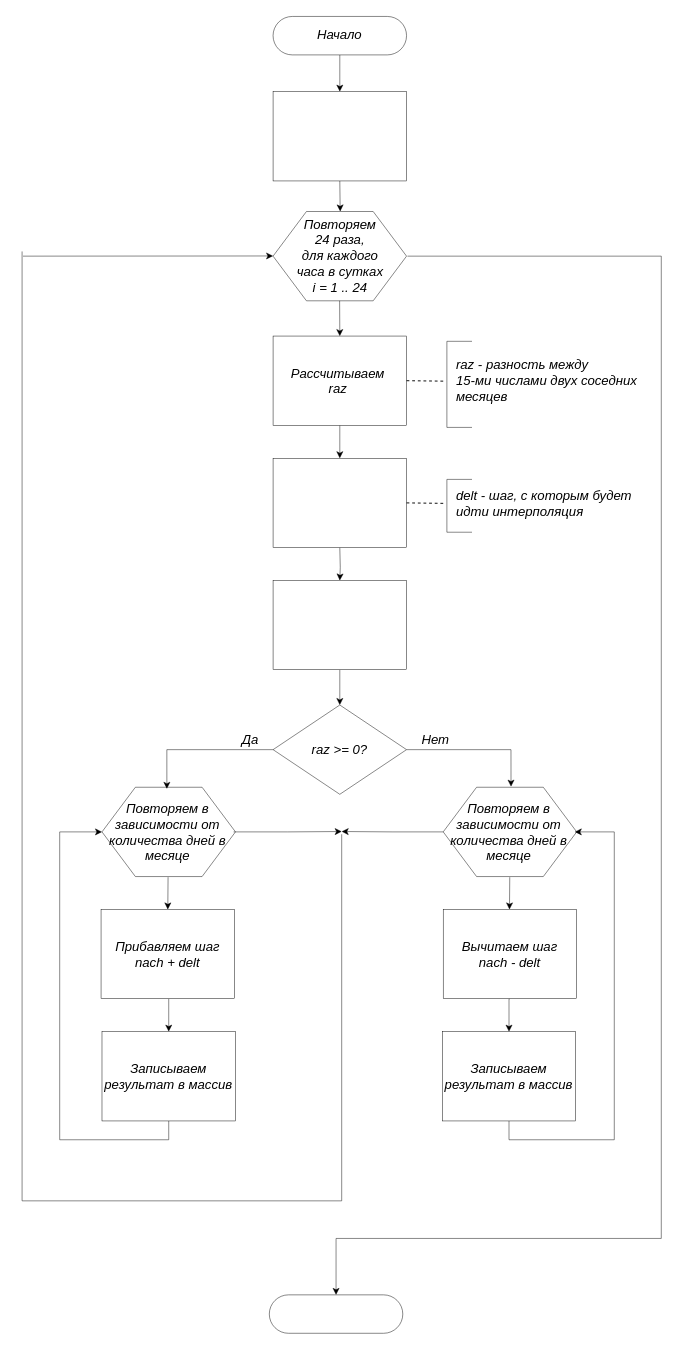
The diagram is 685 pixels wide and 1350 high, and some of its shapes have lost their labels. The shapes that lost their labels are listed below. From the top down, each one's centre as x and y in pixels, then its label:
At (x=339, y=136): "Заполнение массивов исходными данными".
At (x=339, y=502): "Рассчитываем delt".
At (x=339, y=625): "Запоминаем начало промежутка в переменную nach".
At (x=336, y=1313): "Конец".
